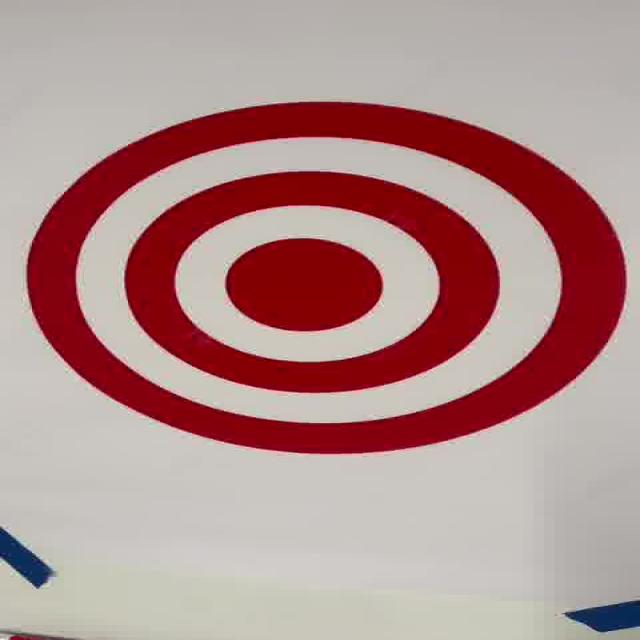target_red: (26, 98, 626, 454)
